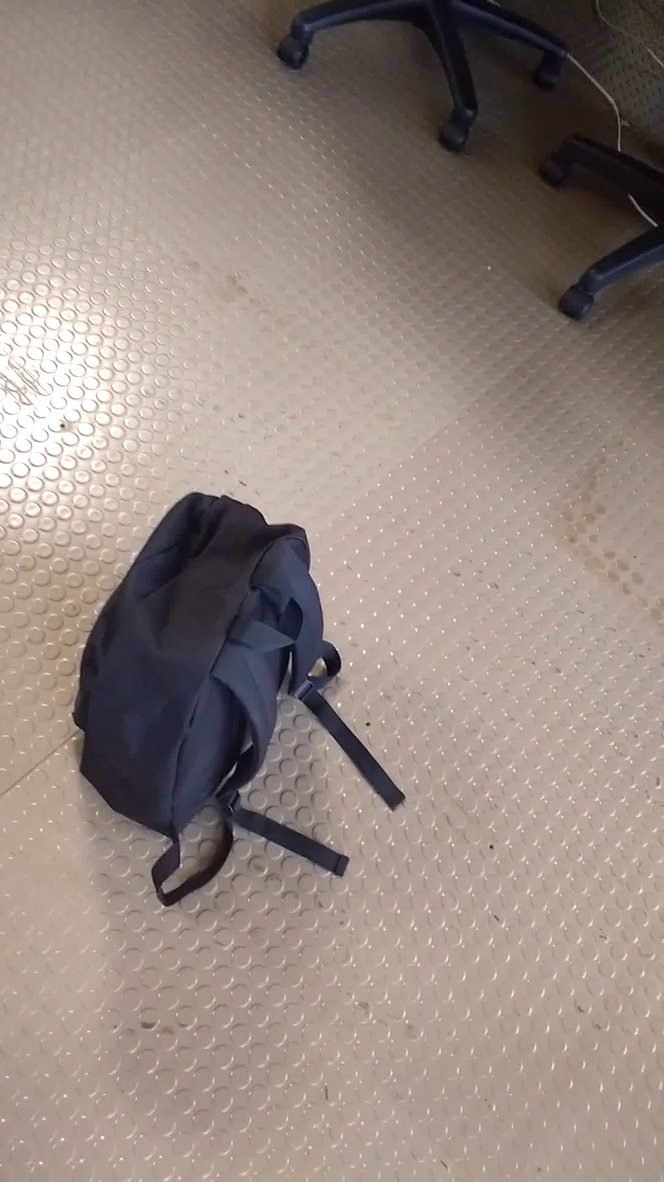bag: (68, 489, 420, 911)
